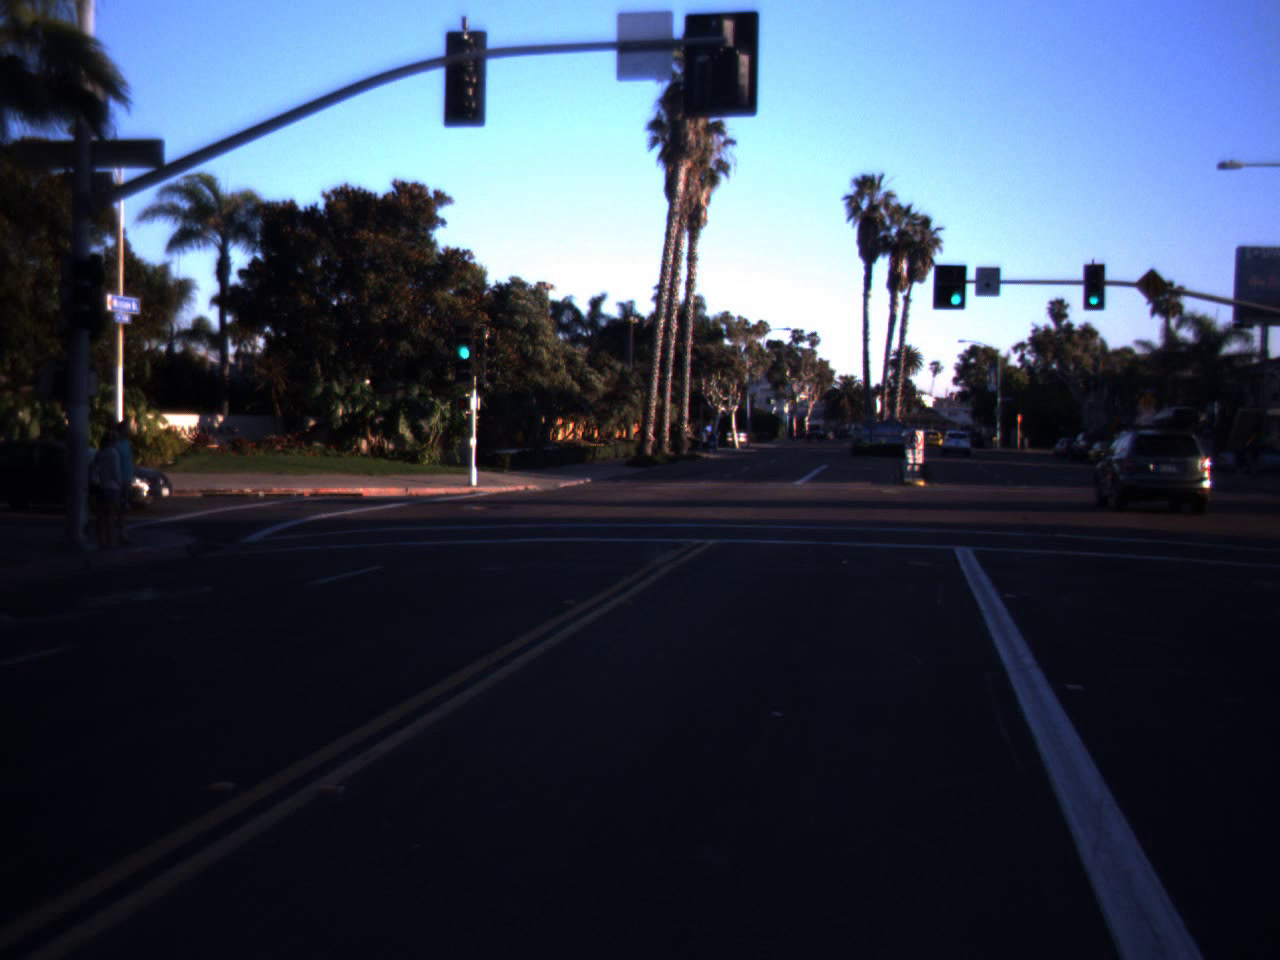go: (451, 313, 478, 363), (944, 263, 968, 308), (1083, 277, 1104, 307)
